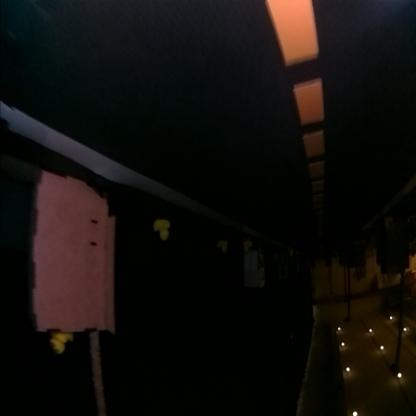Duckie: (50, 334, 74, 354), (154, 220, 172, 242), (243, 242, 253, 252), (219, 242, 226, 254)
